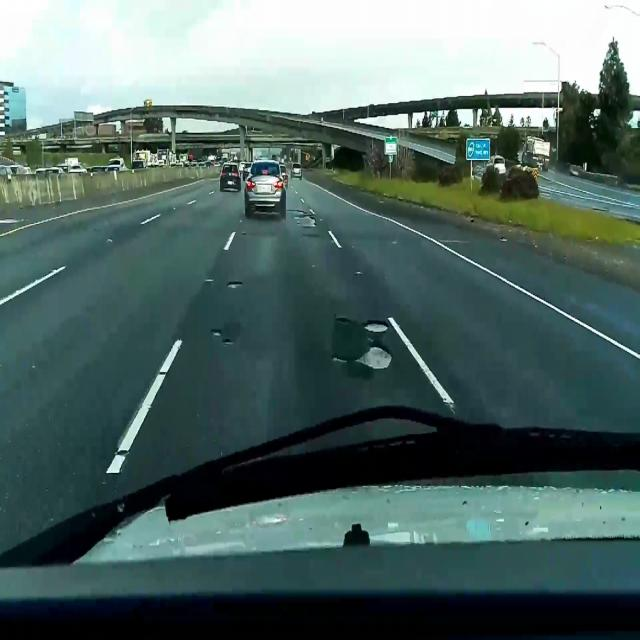Pothole: (354, 345, 392, 370), (363, 318, 390, 334), (293, 216, 317, 228), (227, 280, 243, 289), (286, 209, 307, 214)
